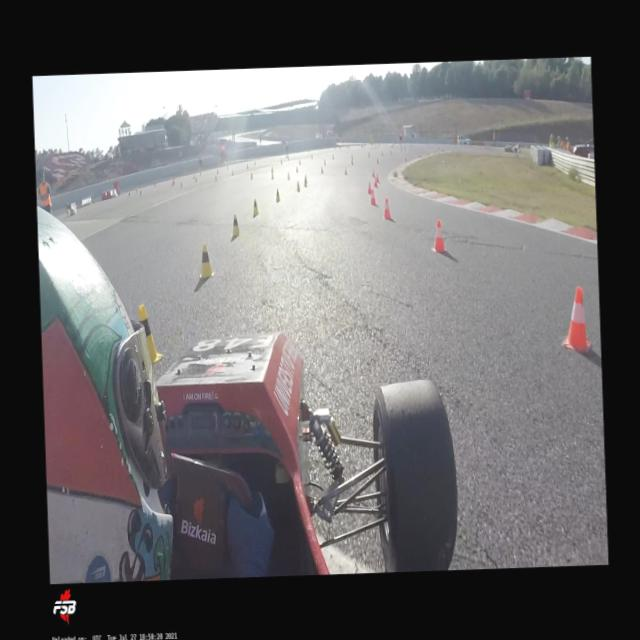orange_cone: (561, 285, 592, 354), (430, 219, 446, 252), (382, 197, 392, 218), (369, 188, 376, 204), (368, 180, 372, 193), (373, 177, 377, 187), (344, 166, 347, 175), (376, 173, 378, 183), (372, 169, 374, 176), (320, 165, 322, 172)
yellow_cone: (138, 304, 164, 364), (197, 242, 215, 278), (230, 213, 240, 236), (252, 197, 258, 215), (274, 188, 280, 202), (296, 180, 300, 192), (303, 176, 306, 187), (286, 171, 290, 179), (271, 172, 273, 179)
